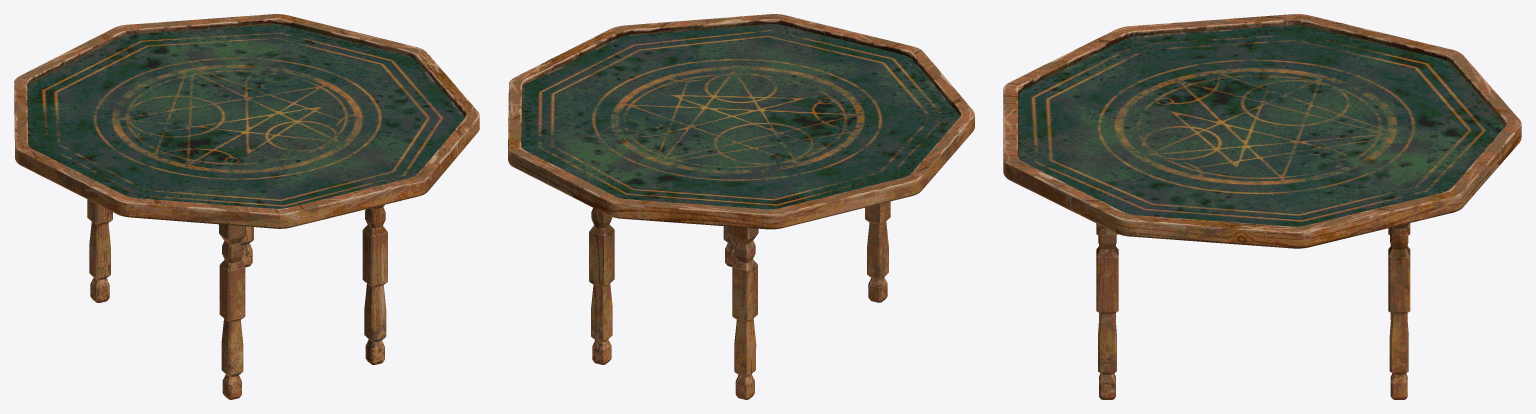
File: Table_HeroAsset.fbx
The picture shows the model from 3 angles, left to right: view 1: azimuth 30°, elevation 25°; view 2: azimuth 150°, elevation 25°; view 3: azimuth 270°, elevation 25°; orthographic projection. The views are drawn at different scales.
Parts seen in each view (by area): view 1: Table; view 2: Table; view 3: Table.
Boxes of the visible parts, bbox=[...] form: Table: bbox=[14, 14, 479, 399]; Table: bbox=[508, 14, 974, 399]; Table: bbox=[1003, 14, 1521, 399].
Bounding box in the file's own units: 150 × 75.86 × 150.
Materials: 1 (1 with a texture image).
